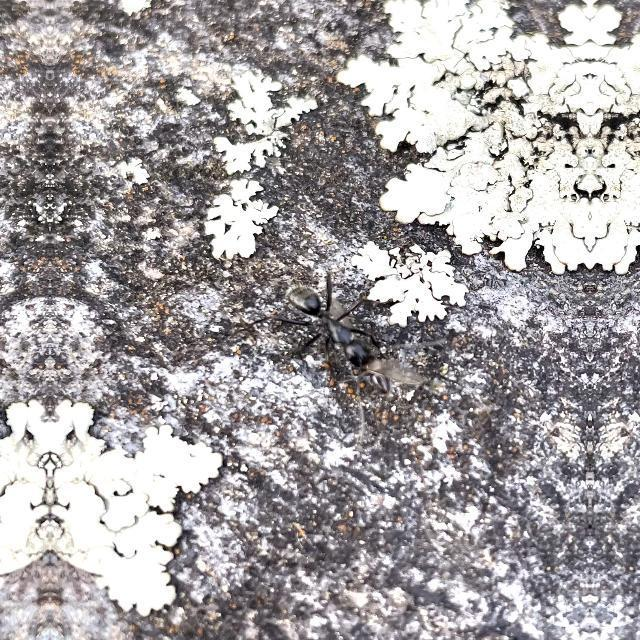Camponotus: (269, 266, 393, 394)
